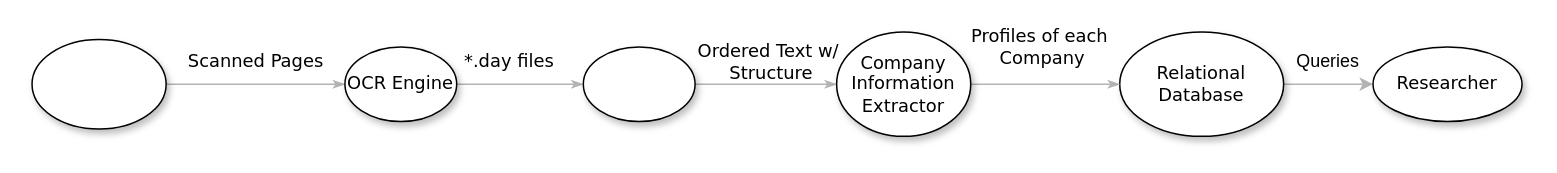
Image size: 1557x173. Some labels were removed from this diagram. Each missing label, with the centre of its shape:
"File Structure Parser" goes at (640,85).
"Moody's Manuals" goes at (100,85).
